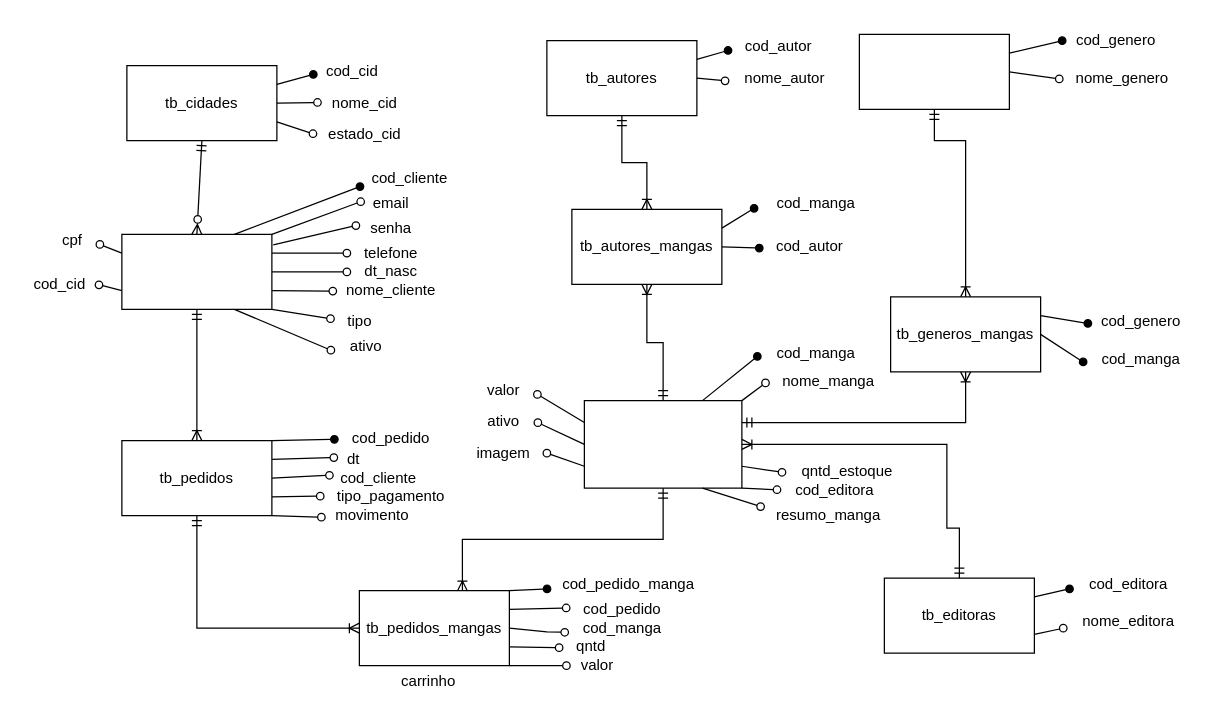
Image size: 1218x721. Some labels were removed from this diagram. The centre of each missing label's shape, as x and y in pixels:
tb_clientes: pixel 196 271
tb_generos: pixel 933 71
tb_mangas: pixel 662 443
